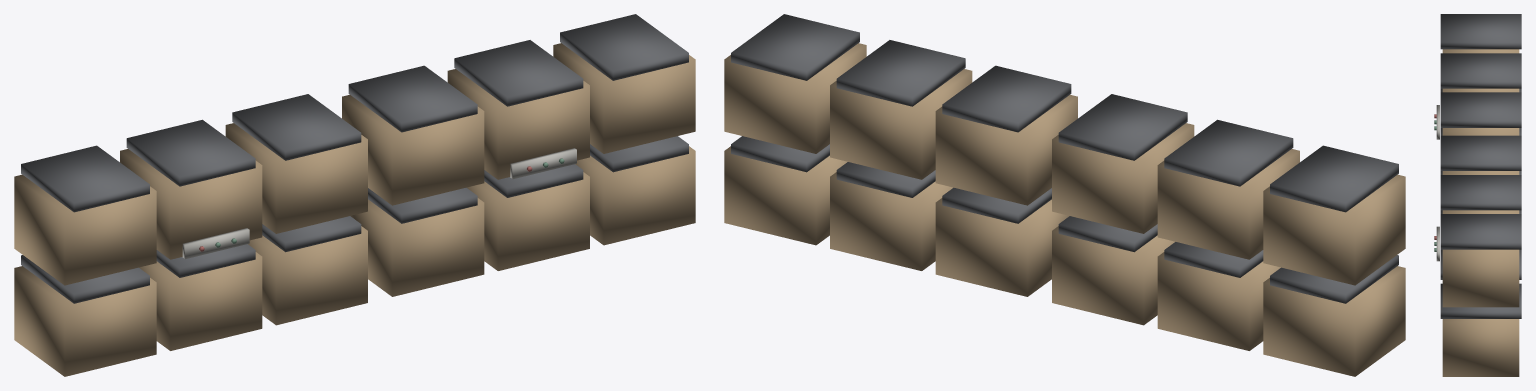
The model's file is market_produce_rack__cluster.glb.
The picture shows the model from 3 angles, left to right: view 1: azimuth 30°, elevation 25°; view 2: azimuth 150°, elevation 25°; view 3: azimuth 270°, elevation 25°; orthographic projection. The views are drawn at different scales.
Parts seen in each view (by area): view 1: world; view 2: world; view 3: world.
Part boxes in pixels (x1,y1,x2,y2): world: (14,14,695,376); world: (724,14,1405,376); world: (1434,14,1521,376).
Bounding box in the file's own units: 2.75 × 0.72 × 0.431.
